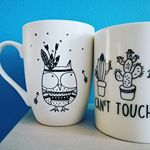cups: (1, 19, 97, 129), (94, 19, 150, 148)
